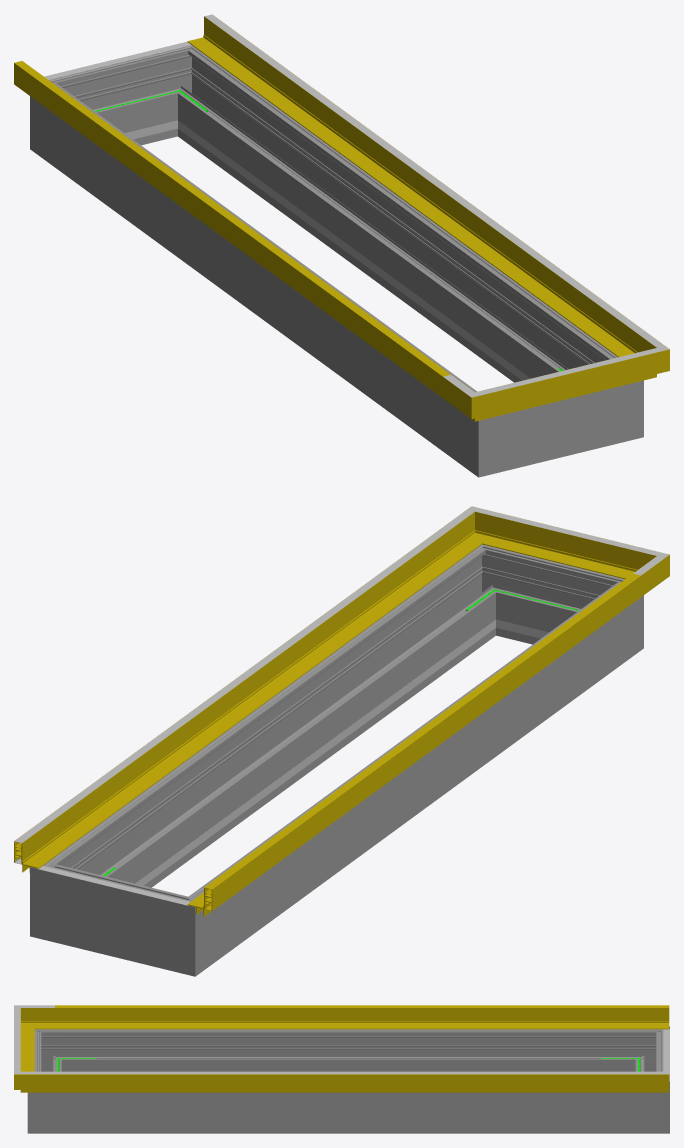
The picture shows the model from 3 angles, top to bottom: view 1: azimuth 30°, elevation 25°; view 2: azimuth 150°, elevation 25°; view 3: azimuth 270°, elevation 25°; orthographic projection. The views are drawn at different scales.
Visible parts, largest first — view 1: 3DGeom-297, 3DGeom-268, 3DGeom-58, 3DGeom-50, 3DGeom-276, 3DGeom-270, 3DGeom-298, 3DGeom-64, 3DGeom-71, 3DGeom-284, 3DGeom-290, 3DGeom-237 (+6 smaller); view 2: 3DGeom-297, 3DGeom-268, 3DGeom-58, 3DGeom-50, 3DGeom-278, 3DGeom-276, 3DGeom-298, 3DGeom-284, 3DGeom-71, 3DGeom-64, 3DGeom-290, 3DGeom-56 (+5 smaller); view 3: 3DGeom-268, 3DGeom-297, 3DGeom-50, 3DGeom-58, 3DGeom-64, 3DGeom-71, 3DGeom-290, 3DGeom-284, 3DGeom-270, 3DGeom-278, 3DGeom-52, 3DGeom-60 (+7 smaller).
Part boxes in pixels (x1,y1,x2,y2): 3DGeom-297: [182, 62, 606, 382]; 3DGeom-268: [58, 97, 465, 456]; 3DGeom-58: [187, 14, 635, 355]; 3DGeom-50: [14, 62, 443, 397]; 3DGeom-276: [84, 55, 169, 145]; 3DGeom-270: [450, 383, 528, 477]; 3DGeom-298: [528, 392, 594, 465]; 3DGeom-64: [204, 14, 640, 330]; 3DGeom-71: [14, 61, 450, 376]; 3DGeom-284: [150, 45, 215, 139]; 3DGeom-290: [594, 349, 643, 449]; 3DGeom-237: [205, 140, 530, 380]; 3DGeom-297: [67, 562, 491, 887]; 3DGeom-268: [208, 596, 615, 955]; 3DGeom-58: [14, 528, 467, 872]; 3DGeom-50: [187, 574, 641, 916]; 3DGeom-278: [145, 882, 223, 976]; 3DGeom-276: [79, 872, 154, 964]; 3DGeom-298: [504, 554, 589, 644]; 3DGeom-284: [30, 848, 88, 948]; 3DGeom-71: [204, 573, 640, 890]; 3DGeom-64: [14, 527, 450, 844]; 3DGeom-290: [458, 544, 523, 638]; 3DGeom-56: [507, 520, 615, 574]; 3DGeom-268: [68, 1029, 628, 1071]; 3DGeom-297: [68, 1092, 628, 1133]; 3DGeom-50: [55, 1008, 669, 1029]; 3DGeom-58: [55, 1074, 669, 1092]; 3DGeom-64: [55, 1071, 669, 1074]; 3DGeom-71: [55, 1005, 669, 1007]; 3DGeom-290: [27, 1067, 68, 1133]; 3DGeom-284: [629, 1067, 669, 1133]; 3DGeom-270: [34, 1029, 68, 1071]; 3DGeom-278: [629, 1026, 669, 1071]; 3DGeom-52: [20, 1008, 54, 1037]; 3DGeom-60: [14, 1057, 54, 1092].
Bounding box in the file's own units: 0.6096 × 0.2669 × 2.44.
